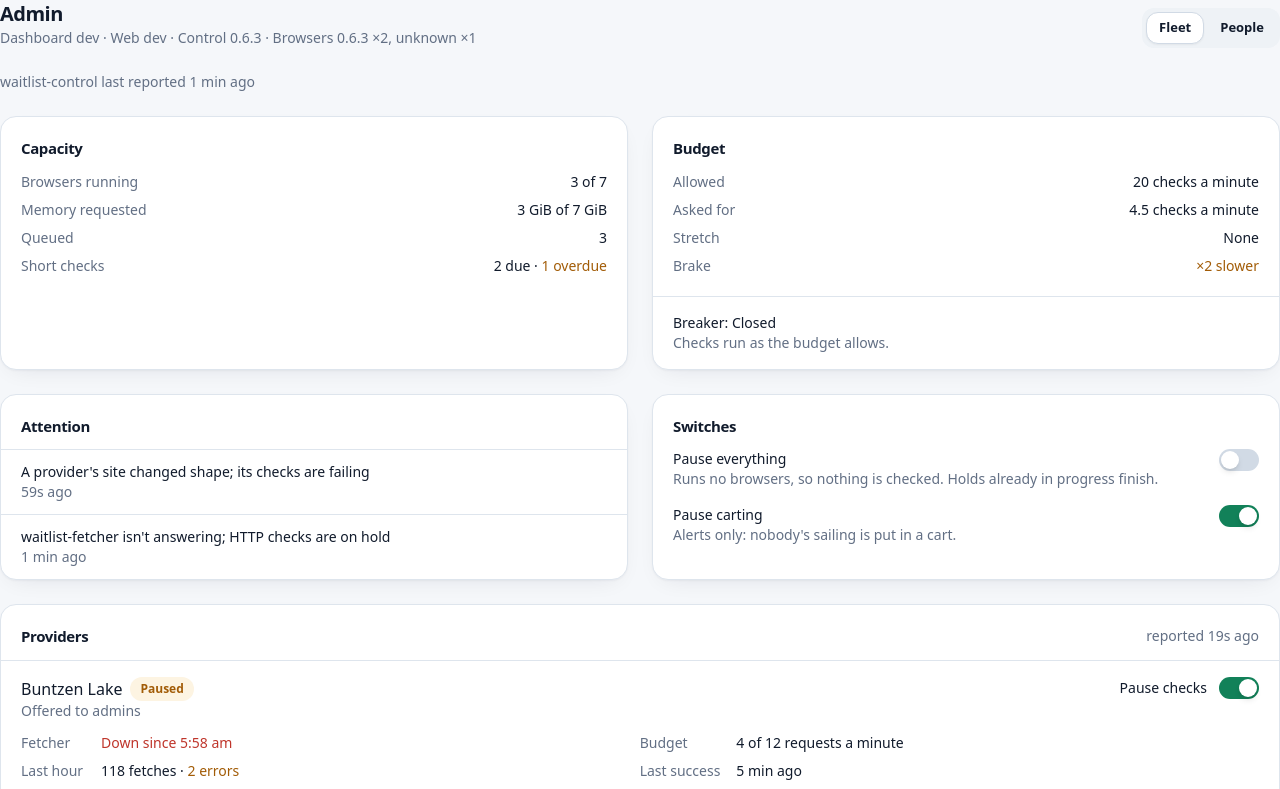
Test case: providers checked over HTTP › offers Resume checks for a paused provider
Check: the text "Paused" is shown, box x1=130 y1=676 x2=194 y2=700
Click the switch named "Pause checks" next to "Pause checks" at point(1239, 688), box x1=1219 y1=676 x2=1259 y2=698
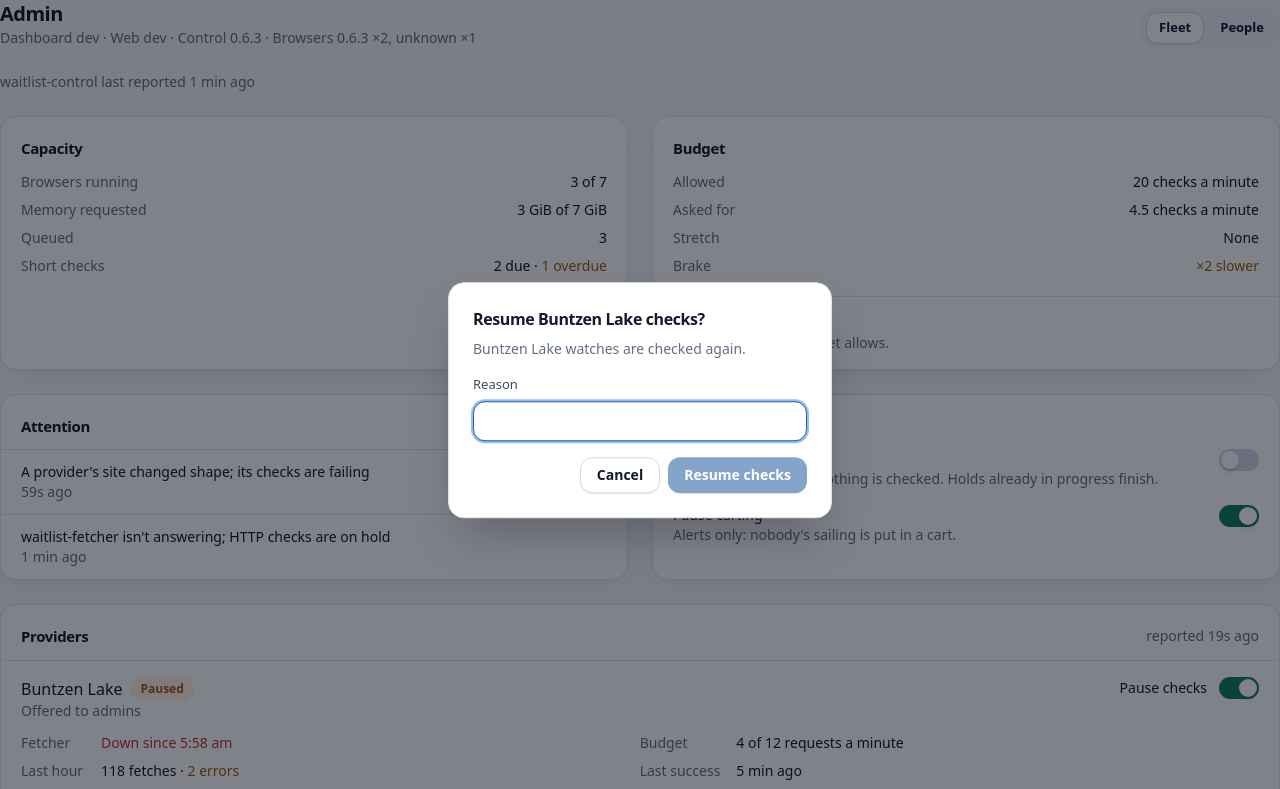
Check: the dialog "Resume Buntzen Lake checks?" is shown, box x1=448 y1=282 x2=832 y2=518
